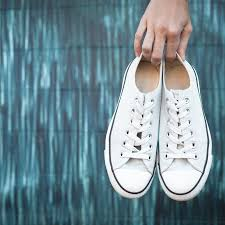shoes: (103, 50, 213, 203)
